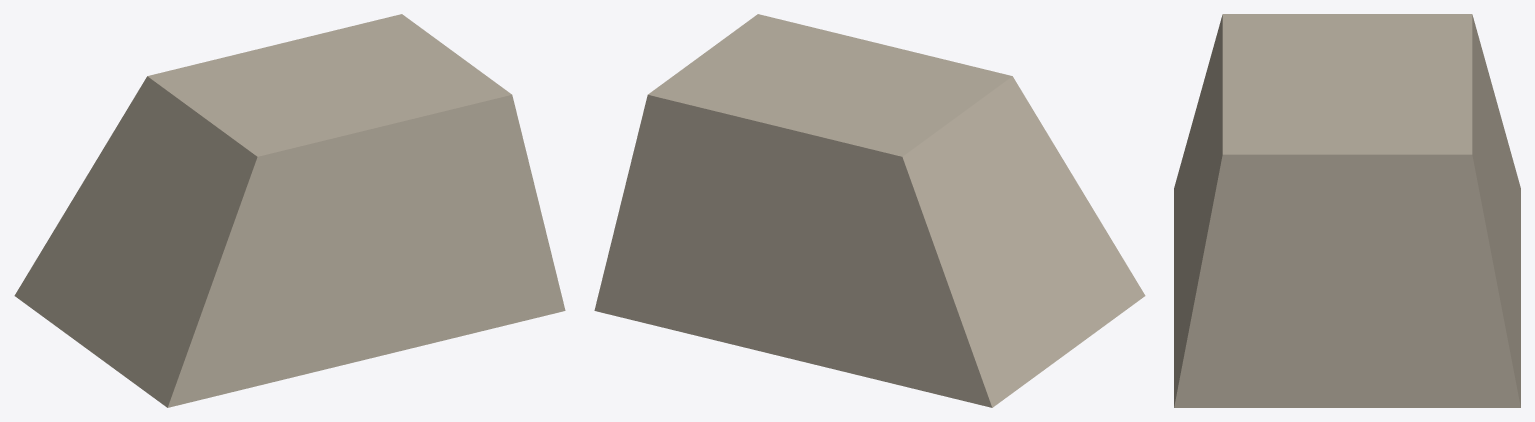
3 views of the same model, side by side, from view 1: azimuth 30°, elevation 25°; view 2: azimuth 150°, elevation 25°; view 3: azimuth 270°, elevation 25° (orthographic). The views are drawn at different scales.
Size of the model in its own units: 6 by 3 by 4.
